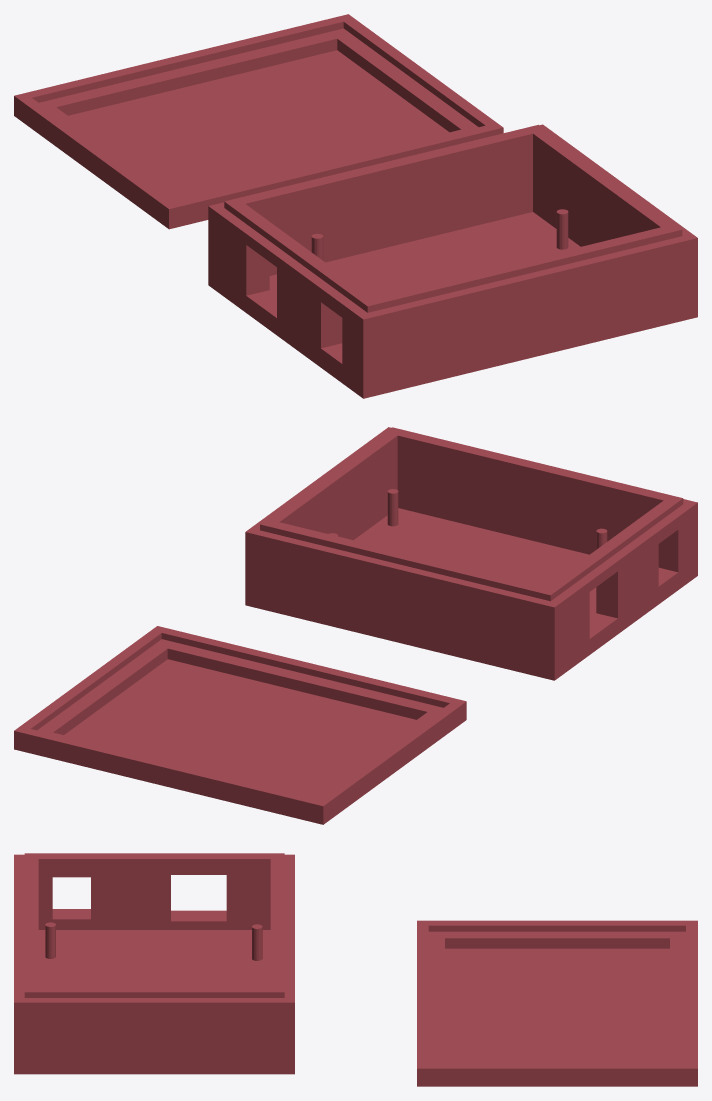
Rendered from verkefni 1 (1).glb.
The picture shows the model from 3 angles, top to bottom: view 1: azimuth 30°, elevation 25°; view 2: azimuth 150°, elevation 25°; view 3: azimuth 270°, elevation 25°; orthographic projection. The views are drawn at different scales.
Parts seen in each view (by area): view 1: Mesh_Mesh_head_geo.001_lambert2SG.001; view 2: Mesh_Mesh_head_geo.001_lambert2SG.001; view 3: Mesh_Mesh_head_geo.001_lambert2SG.001.
Part boxes in pixels (bbox=[...]): Mesh_Mesh_head_geo.001_lambert2SG.001: bbox=[14, 14, 697, 398]; Mesh_Mesh_head_geo.001_lambert2SG.001: bbox=[14, 427, 697, 824]; Mesh_Mesh_head_geo.001_lambert2SG.001: bbox=[14, 853, 697, 1086].
Bounding box in the file's own units: 88.5 × 20 × 160.
